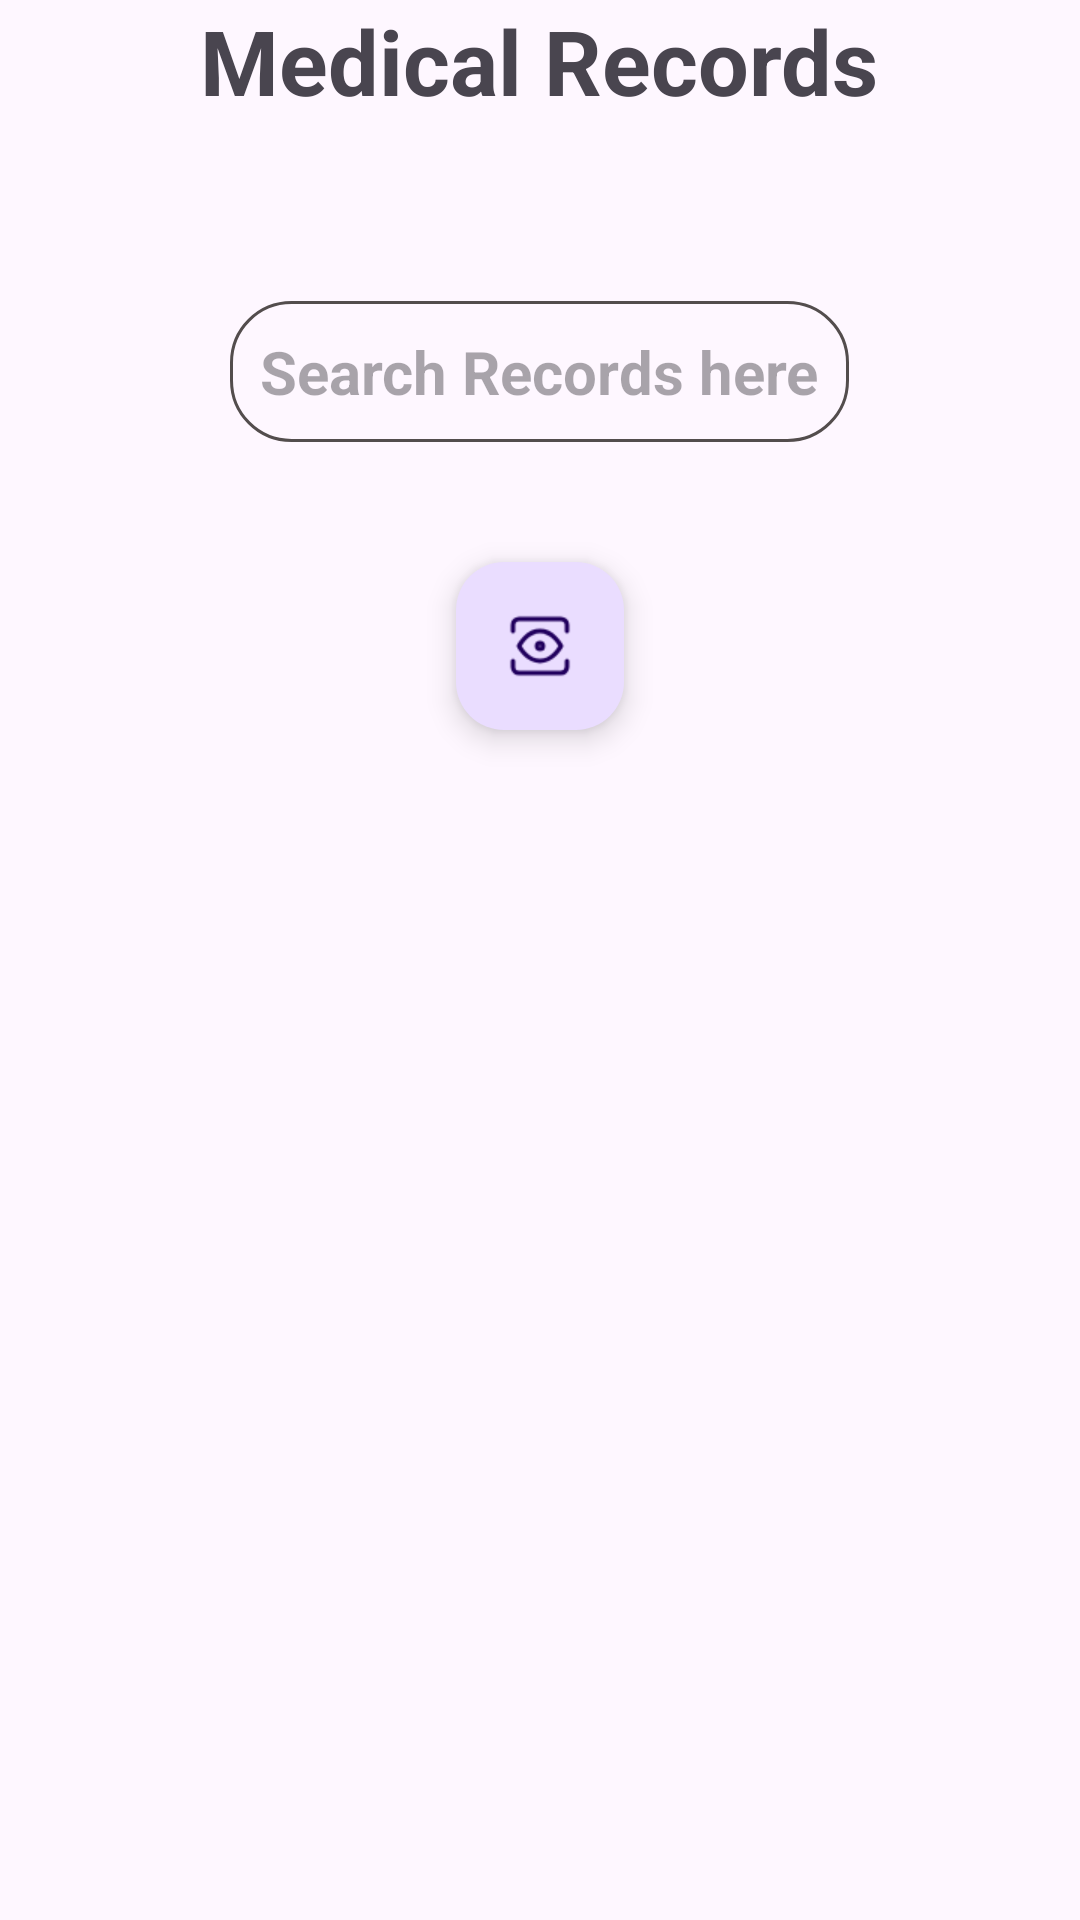

Screen size 1080px x 1920px. Icon name, then its center in pixels as point (x, y):
view: point (540, 646)
